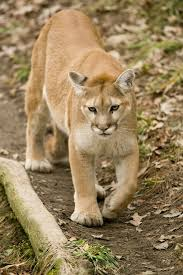Mountain Lion: (18, 5, 160, 221)
